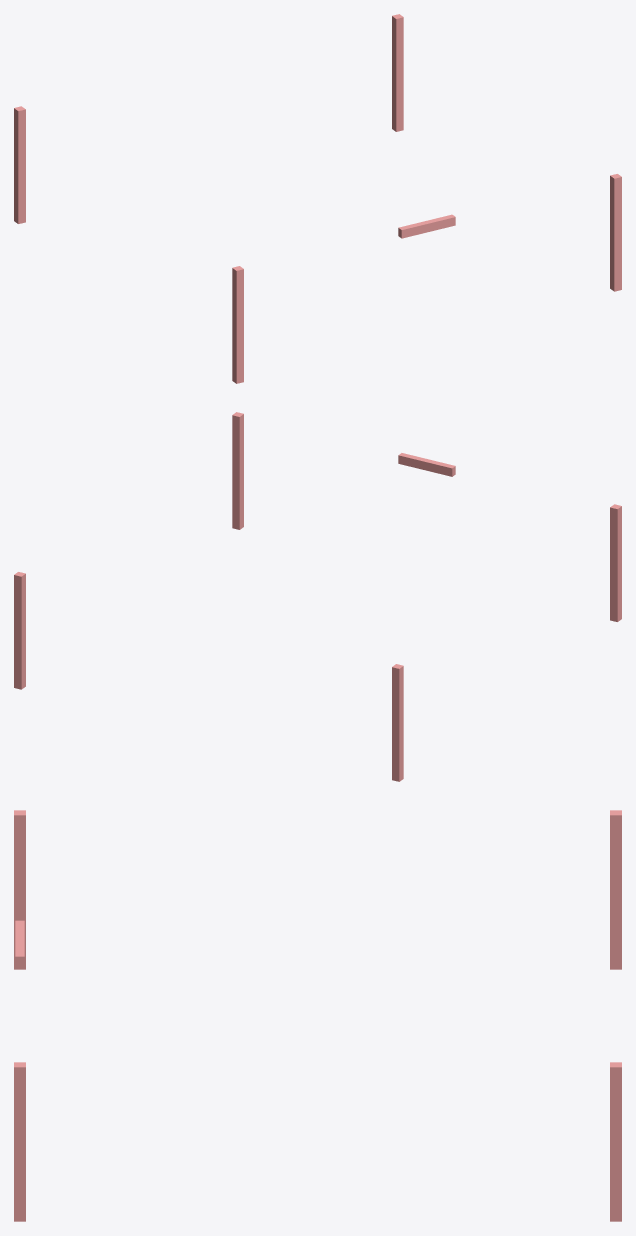
The model's file is accent-0.glb.
3 views of the same model, one above another, from view 1: azimuth 30°, elevation 25°; view 2: azimuth 150°, elevation 25°; view 3: azimuth 270°, elevation 25° (orthographic). The views are drawn at different scales.
Parts seen in each view (by area): view 1: accent-0; view 2: accent-0; view 3: accent-0.
Boxes of the visible parts, x1,y1,x2,y2 form: accent-0: (14,14,621,383); accent-0: (14,412,621,781); accent-0: (14,810,621,1221).
Size of the model in its own units: 14.28 by 4 by 14.28.
Materials: 1 (1 with a texture image).
